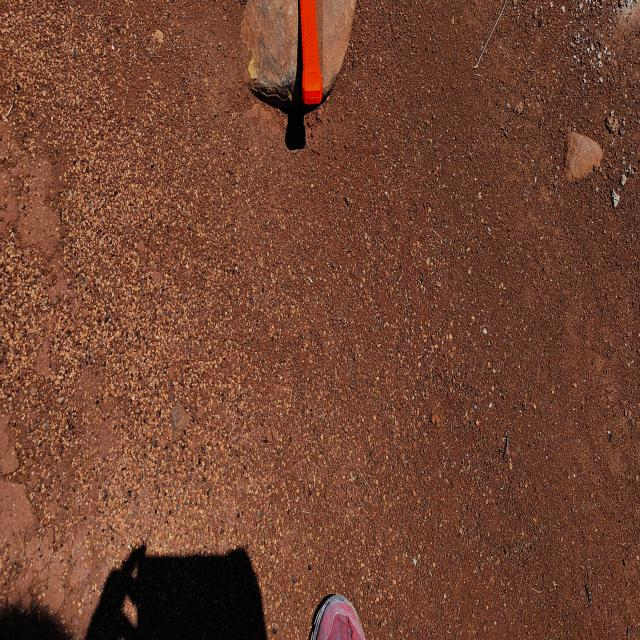Orange_hammer: (299, 0, 323, 106)
